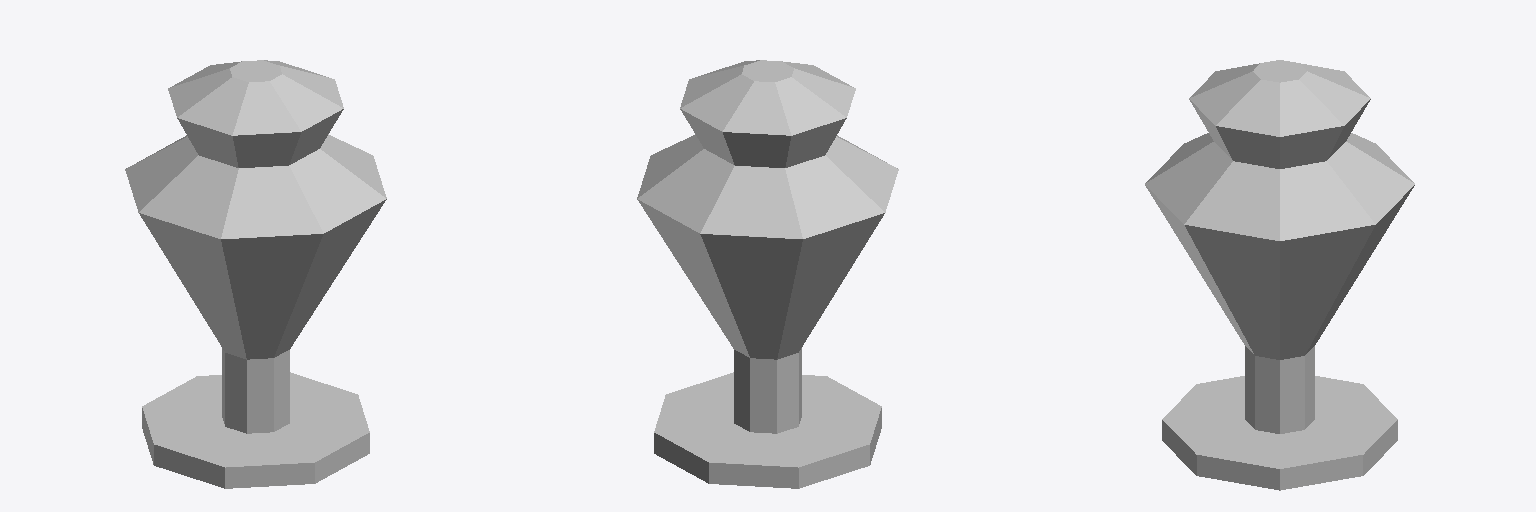
Rendered from tempEnemy.obj.
3 renders of one model, left to right at view 1: azimuth 30°, elevation 25°; view 2: azimuth 150°, elevation 25°; view 3: azimuth 270°, elevation 25°, orthographic.
Parts seen in each view (by area): view 1: Circle; view 2: Circle; view 3: Circle.
Part boxes in pixels (bbox=[...]): Circle: bbox=[125, 60, 386, 488]; Circle: bbox=[637, 60, 898, 488]; Circle: bbox=[1145, 60, 1414, 490].
Size of the model in its own units: 1.15 by 1.73 by 1.15.